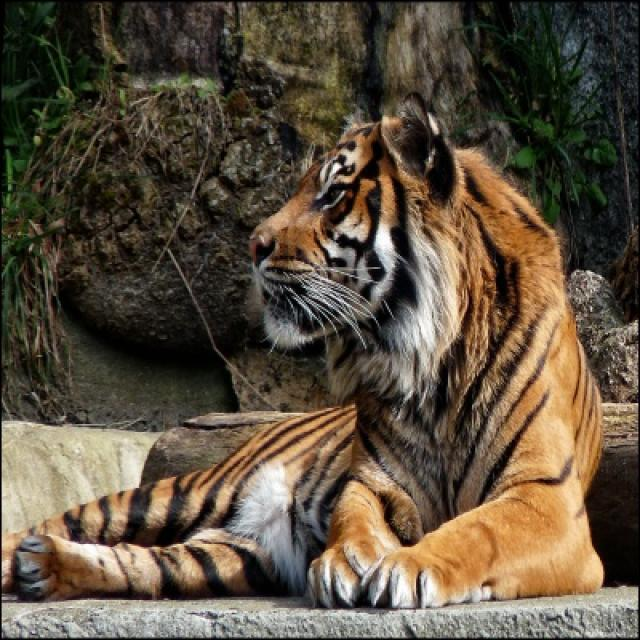Tiger: (0, 112, 608, 613)
